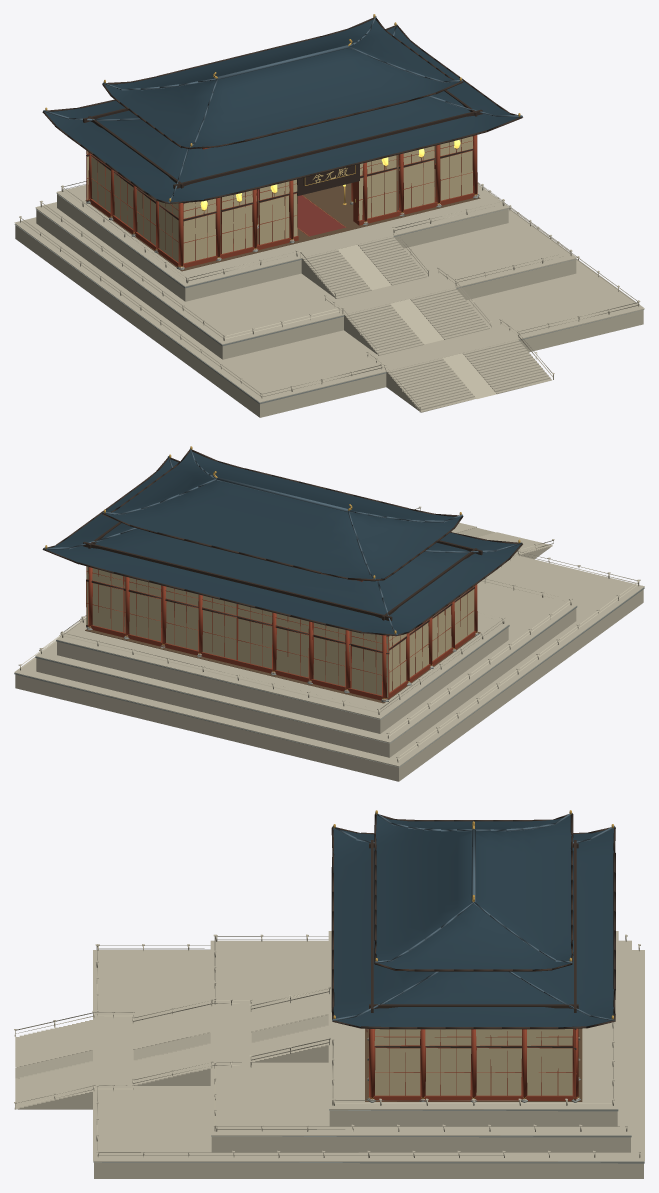
Rendered from palace-low.glb.
3 renders of one model, top to bottom at view 1: azimuth 30°, elevation 25°; view 2: azimuth 150°, elevation 25°; view 3: azimuth 270°, elevation 25°, orthographic. The views are drawn at different scales.
Visible parts, largest first — view 1: Hanyuan Hall · LOW · stone, Hanyuan Hall · LOW · roof, Hanyuan Hall · LOW · paper, Hanyuan Hall · LOW · red, Hanyuan Hall · LOW · wood, Hanyuan Hall · LOW · floor, Hanyuan Hall · LOW · edge, Hanyuan Hall · LOW · rib, Hanyuan Hall · LOW · silk; view 2: Hanyuan Hall · LOW · stone, Hanyuan Hall · LOW · roof, Hanyuan Hall · LOW · paper, Hanyuan Hall · LOW · red, Hanyuan Hall · LOW · wood, Hanyuan Hall · LOW · edge, Hanyuan Hall · LOW · rib, Hanyuan Hall · LOW · floor; view 3: Hanyuan Hall · LOW · stone, Hanyuan Hall · LOW · roof, Hanyuan Hall · LOW · paper, Hanyuan Hall · LOW · wood, Hanyuan Hall · LOW · red, Hanyuan Hall · LOW · edge, Hanyuan Hall · LOW · rib, Hanyuan Hall · LOW · floor.
Boxes of the visible parts, <box> form: Hanyuan Hall · LOW · stone: <box>14,181,644,417</box>; Hanyuan Hall · LOW · roof: <box>45,19,518,202</box>; Hanyuan Hall · LOW · paper: <box>87,136,472,263</box>; Hanyuan Hall · LOW · red: <box>86,135,477,268</box>; Hanyuan Hall · LOW · wood: <box>42,17,522,221</box>; Hanyuan Hall · LOW · floor: <box>85,154,480,271</box>; Hanyuan Hall · LOW · edge: <box>14,193,644,404</box>; Hanyuan Hall · LOW · rib: <box>43,16,522,203</box>; Hanyuan Hall · LOW · silk: <box>203,149,456,236</box>; Hanyuan Hall · LOW · stone: <box>14,506,644,781</box>; Hanyuan Hall · LOW · roof: <box>47,451,520,634</box>; Hanyuan Hall · LOW · paper: <box>86,566,474,697</box>; Hanyuan Hall · LOW · red: <box>86,566,477,700</box>; Hanyuan Hall · LOW · wood: <box>42,449,522,699</box>; Hanyuan Hall · LOW · edge: <box>14,587,644,767</box>; Hanyuan Hall · LOW · rib: <box>43,448,521,635</box>; Hanyuan Hall · LOW · floor: <box>85,629,480,703</box>; Hanyuan Hall · LOW · stone: <box>14,931,644,1178</box>; Hanyuan Hall · LOW · roof: <box>333,815,613,1027</box>; Hanyuan Hall · LOW · paper: <box>374,1029,572,1095</box>; Hanyuan Hall · LOW · wood: <box>331,813,615,1100</box>; Hanyuan Hall · LOW · red: <box>368,1028,578,1101</box>; Hanyuan Hall · LOW · edge: <box>93,1039,644,1163</box>; Hanyuan Hall · LOW · rib: <box>332,813,614,1021</box>; Hanyuan Hall · LOW · floor: <box>365,1028,582,1101</box>.
Bounding box in the file's own units: 76.3 × 36.35 × 96.35.
